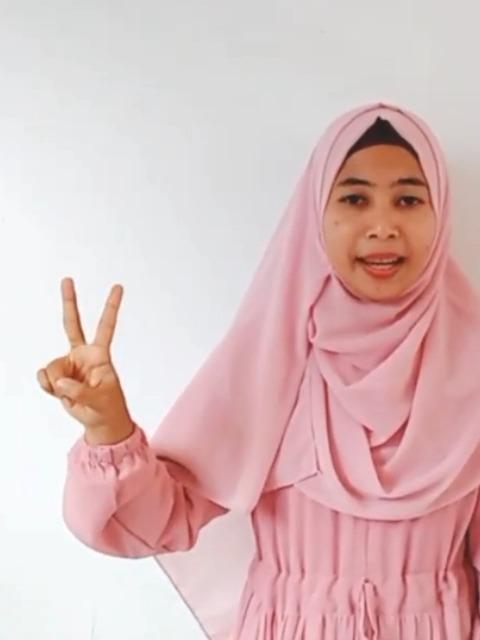V: (31, 273, 141, 432)
